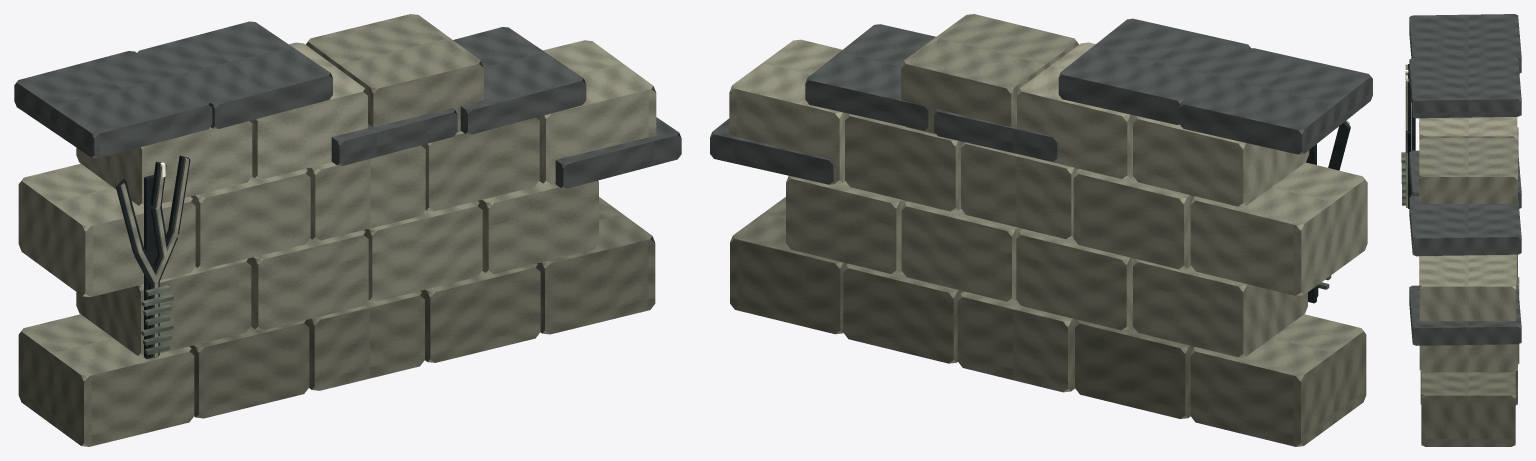
The model's file is cataclysm_upland_wall.glb.
3 views of the same model, side by side, from view 1: azimuth 30°, elevation 25°; view 2: azimuth 150°, elevation 25°; view 3: azimuth 270°, elevation 25° (orthographic). The views are drawn at different scales.
Visible parts, largest first — view 1: cataclysm_upland_wall; view 2: cataclysm_upland_wall; view 3: cataclysm_upland_wall.
Part boxes in pixels (x1,y1,x2,y2): cataclysm_upland_wall: (14, 14, 681, 446); cataclysm_upland_wall: (710, 14, 1372, 446); cataclysm_upland_wall: (1401, 14, 1521, 446).
Bounding box in the file's own units: 3.05 × 1.56 × 0.7398.
Materials: 3 (3 with a texture image).
